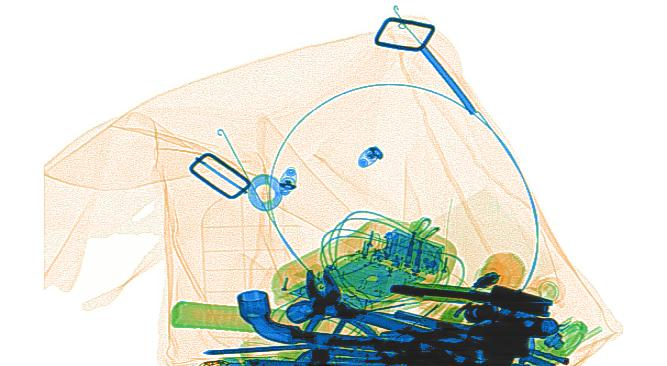battery: (382, 228, 445, 276)
